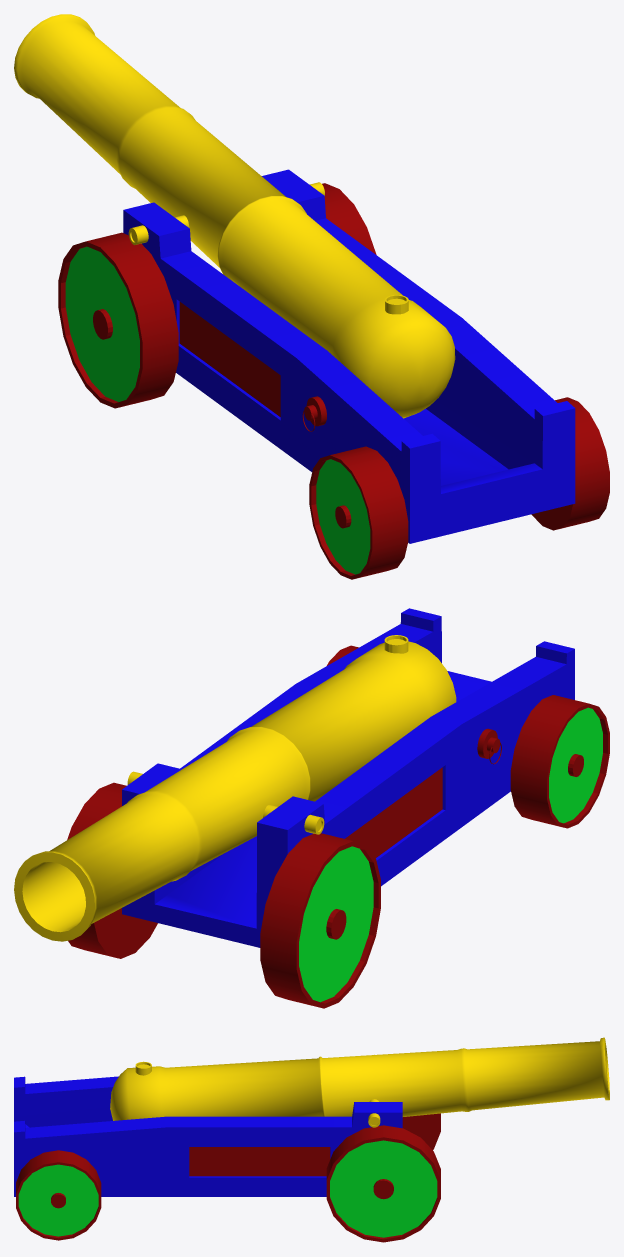
Rendered from cannon fbx.FBX.
3 views of the same model, one above another, from view 1: azimuth 30°, elevation 25°; view 2: azimuth 150°, elevation 25°; view 3: azimuth 270°, elevation 25° (orthographic). The views are drawn at different scales.
Parts seen in each view (by area): view 1: Box001, Cylinder002, Torus001, Object001; view 2: Cylinder002, Box001, Torus001, Object001; view 3: Cylinder002, Box001, Object001, Torus001.
Part boxes in pixels (box(x1,y1,x2,y2)): Box001: box(123, 169, 575, 543); Cylinder002: box(14, 14, 455, 418); Torus001: box(58, 183, 609, 579); Object001: box(65, 246, 370, 574); Cylinder002: box(14, 635, 456, 941); Box001: box(122, 608, 574, 947); Torus001: box(67, 645, 609, 1008); Object001: box(299, 707, 602, 1002); Cylinder002: box(110, 1037, 609, 1127); Box001: box(14, 1076, 402, 1196); Object001: box(18, 1140, 437, 1237); Torus001: box(16, 1113, 440, 1242).
Size of the model in its own units: 17.34 by 16.56 by 55.19.
